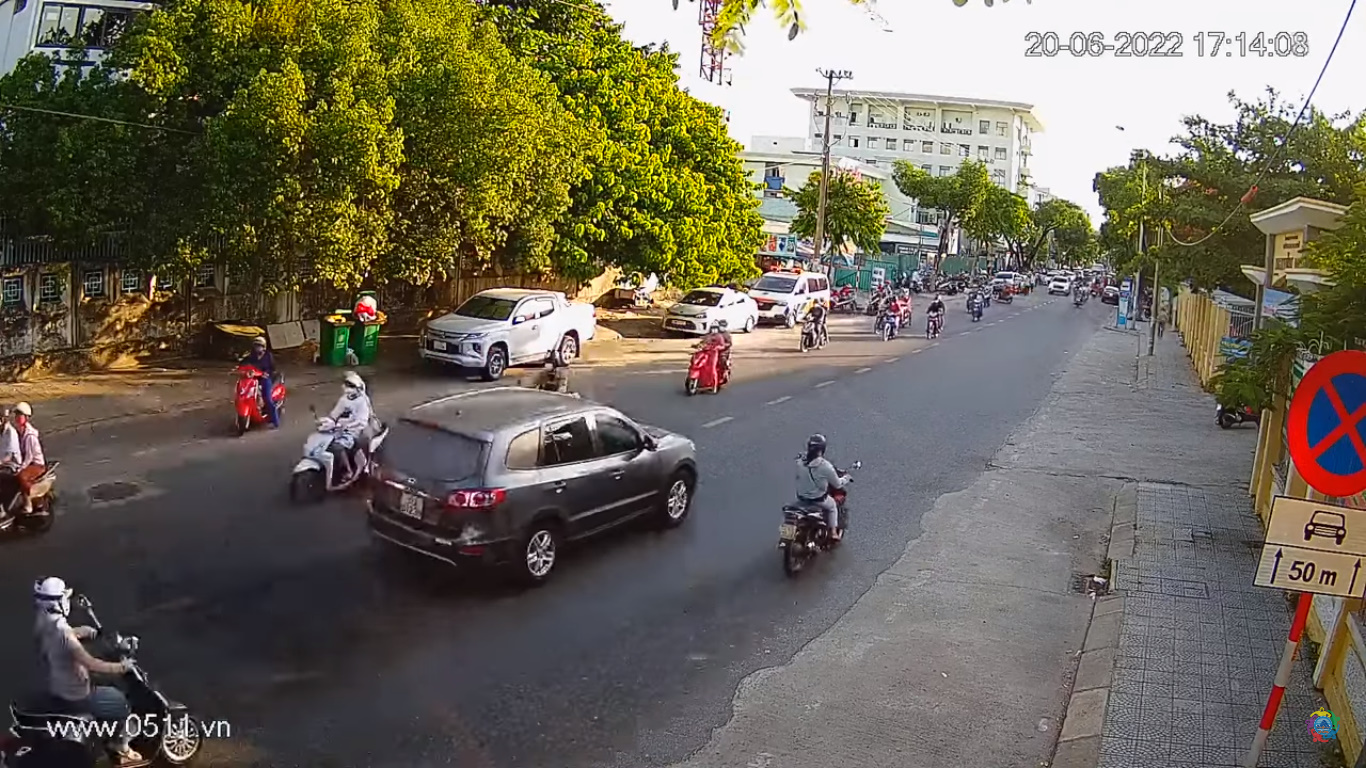car: (369, 389, 699, 583)
